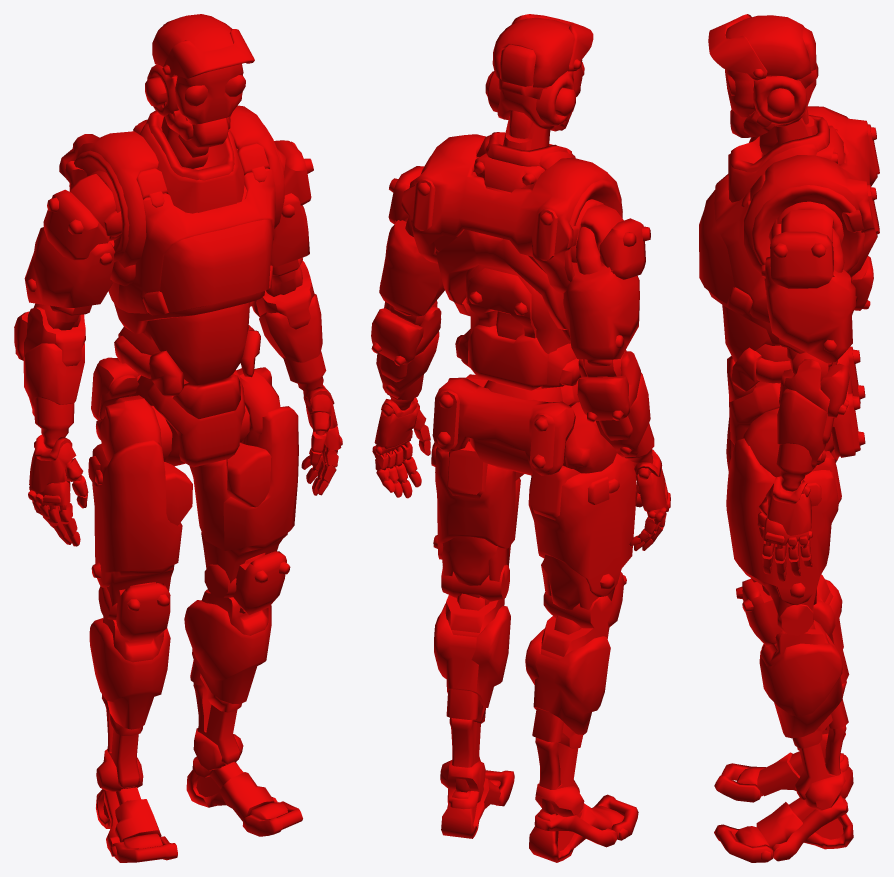
The model's file is cgjoy-DestructibleRobot.fbx.
3 renders of one model, left to right at view 1: azimuth 30°, elevation 25°; view 2: azimuth 150°, elevation 25°; view 3: azimuth 270°, elevation 25°, orthographic. The views are drawn at different scales.
Parts seen in each view (by area): view 1: B_Chest_Geom, B_RightUpLeg_Geom, A_Chest_Geom, B_LeftUpLeg_Geom, B_Torso_Geom, B_RightArm_Geom, A_Hips_Geom, B_LeftLeg_Geom, A_LeftUpLeg_Geom, B_RightLeg_Geom, A_RightUpLeg_Geom, A_LeftLeg_Geom (+21 smaller); view 2: B_Chest_Geom, B_RightUpLeg_Geom, A_Chest_Geom, B_RightArm_Geom, B_LeftUpLeg_Geom, B_Torso_Geom, B_RightLeg_Geom, B_Hips_Geom, B_LeftLeg_Geom, B_Head_Geom, A_Hips_Geom, A_RightUpLeg_Geom (+21 smaller); view 3: B_Chest_Geom, B_LeftUpLeg_Geom, A_Chest_Geom, B_LeftArm_Geom, B_LeftLeg_Geom, B_Head_Geom, A_LeftLeg_Geom, A_LeftFoot_Geom, B_LeftForeArm_Geom, B_Torso_Geom, A_Hips_Geom, A_LeftUpLeg_Geom (+15 smaller).
Part boxes in pixels (box(x1,y1,x2,y2)): B_Chest_Geom: box(59, 105, 283, 334); B_RightUpLeg_Geom: box(88, 440, 182, 641); A_Chest_Geom: box(69, 110, 284, 313); B_LeftUpLeg_Geom: box(189, 406, 298, 614); B_Torso_Geom: box(114, 302, 260, 396); B_RightArm_Geom: box(24, 189, 114, 307); A_Hips_Geom: box(98, 358, 249, 467); B_LeftLeg_Geom: box(184, 600, 271, 704); A_LeftUpLeg_Geom: box(204, 367, 280, 597); B_RightLeg_Geom: box(89, 618, 170, 729); A_RightUpLeg_Geom: box(96, 395, 192, 620); A_LeftLeg_Geom: box(193, 589, 268, 770); B_Chest_Geom: box(401, 134, 621, 340); B_RightUpLeg_Geom: box(528, 453, 636, 627); A_Chest_Geom: box(412, 132, 622, 329); B_RightArm_Geom: box(563, 218, 650, 359); B_LeftUpLeg_Geom: box(431, 442, 520, 585); B_Torso_Geom: box(455, 264, 581, 390); B_RightLeg_Geom: box(525, 628, 610, 742); B_Hips_Geom: box(432, 378, 574, 475); B_LeftLeg_Geom: box(434, 603, 510, 719); B_Head_Geom: box(485, 17, 576, 131); A_Hips_Geom: box(434, 380, 579, 475); A_RightUpLeg_Geom: box(529, 402, 616, 628); B_Chest_Geom: box(699, 106, 877, 344); B_LeftUpLeg_Geom: box(726, 438, 838, 646); A_Chest_Geom: box(714, 115, 879, 322); B_LeftArm_Geom: box(761, 231, 855, 363); B_LeftLeg_Geom: box(759, 632, 848, 738); B_Head_Geom: box(725, 15, 816, 137); A_LeftLeg_Geom: box(761, 620, 846, 810); A_LeftFoot_Geom: box(756, 795, 853, 861); B_LeftForeArm_Geom: box(777, 363, 849, 468); B_Torso_Geom: box(722, 305, 837, 391); A_Hips_Geom: box(729, 346, 865, 456); A_LeftUpLeg_Geom: box(743, 408, 841, 635).
Size of what is drawn, in the model's own units: 71.47 by 187 by 38.32.
